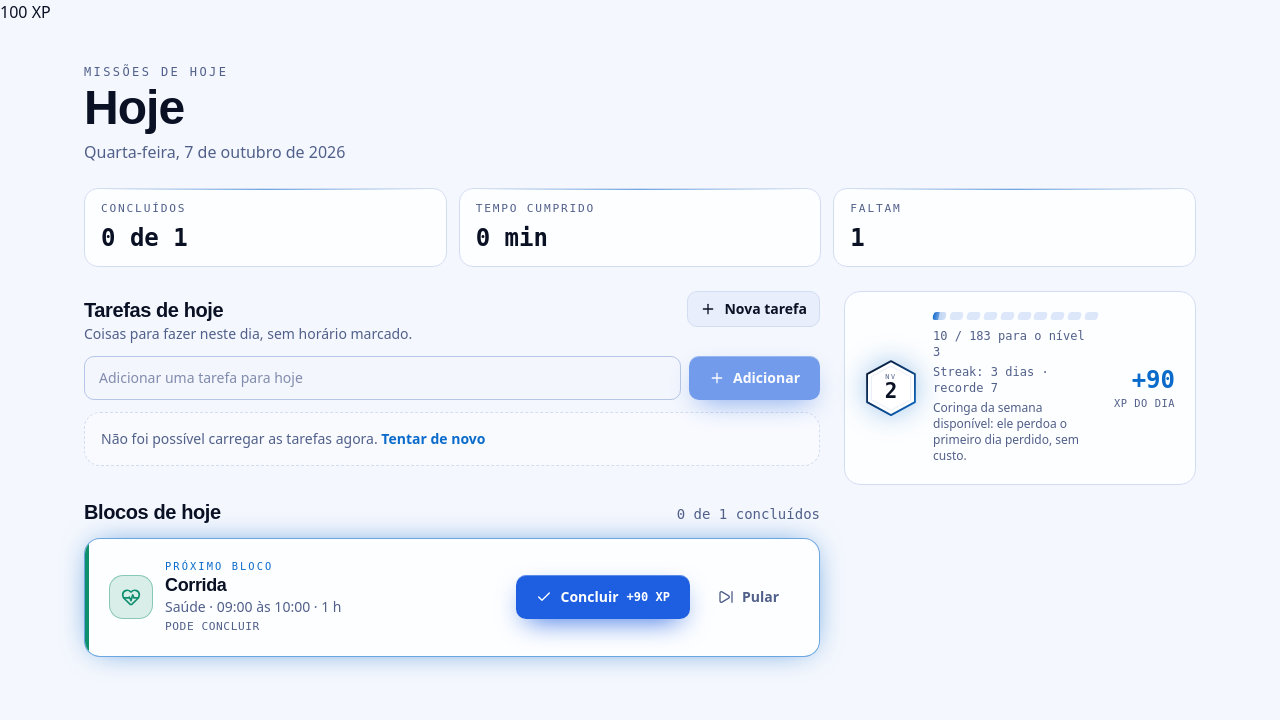
Test case: TodayPage › comemora quando a conclusão sobe de nível
Click the button "Concluir +90 XP".
click(603, 597)  # box [516, 575, 690, 619]
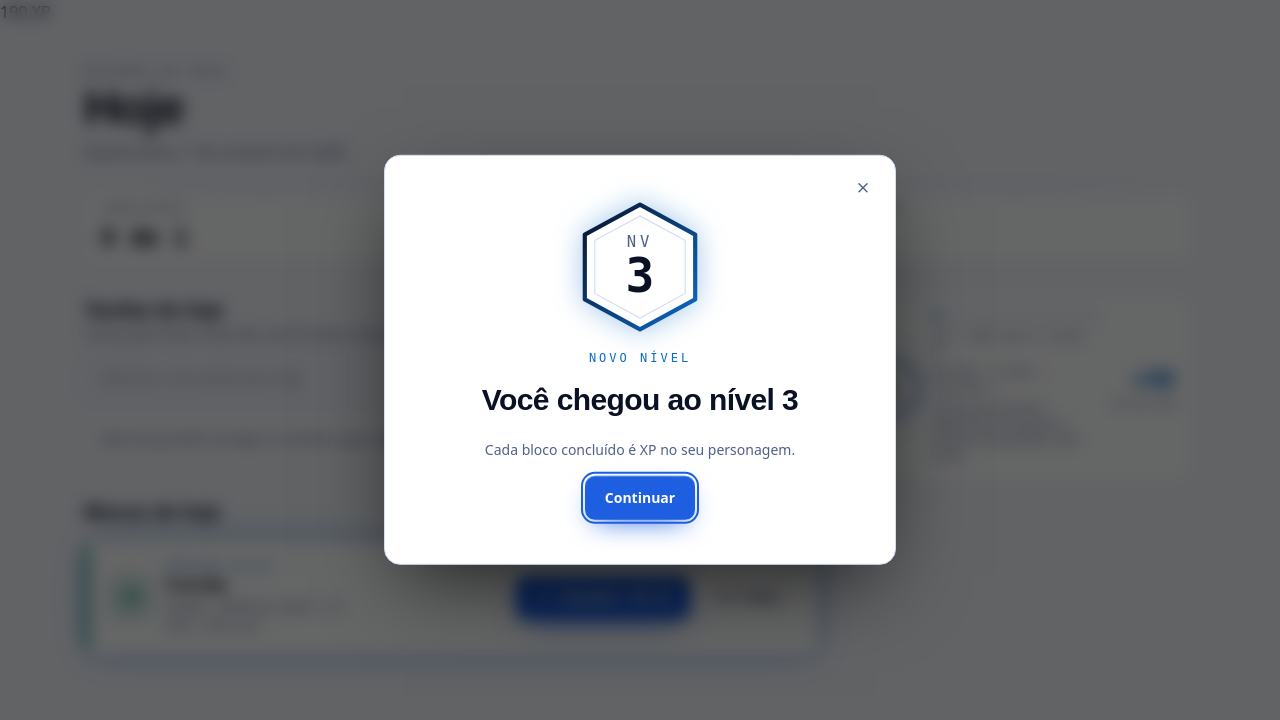
Check: the heading "Você chegou ao nível 3" is shown, box [482, 382, 798, 418]
Click the button "Continuar".
click(640, 498)  # box [585, 476, 695, 520]
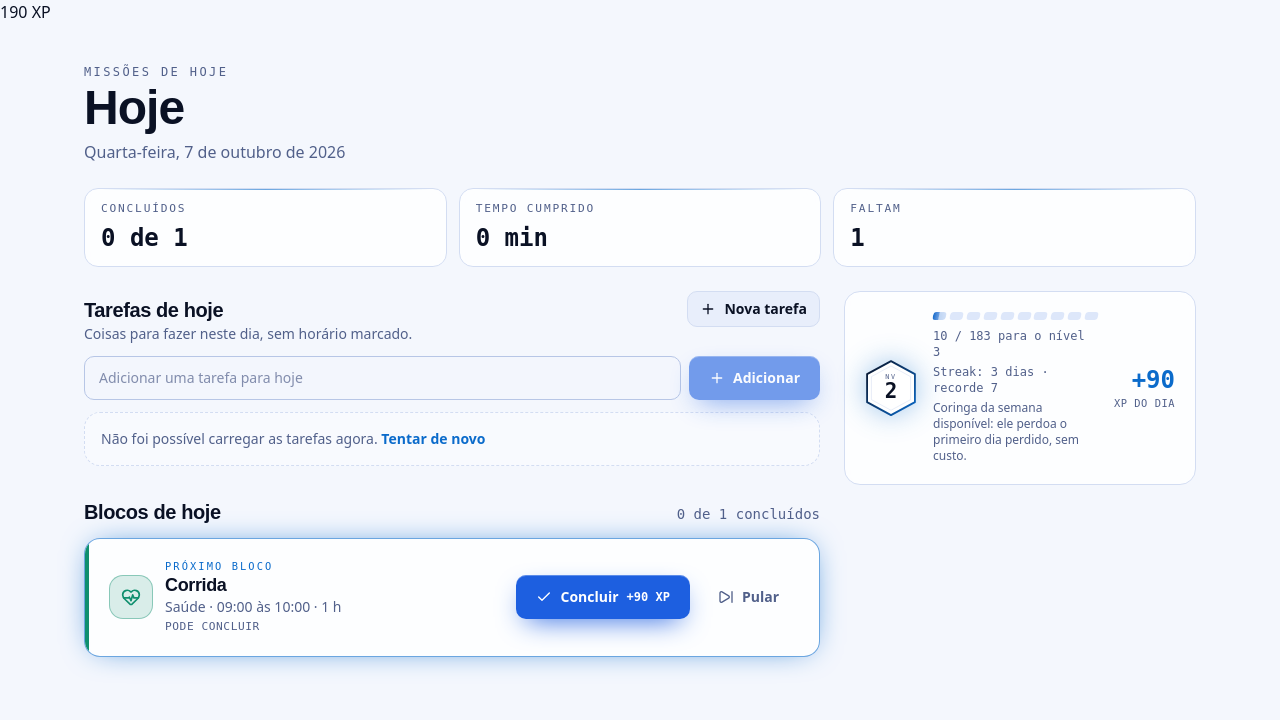
Check: the heading "Você chegou ao nível 3" is gone
